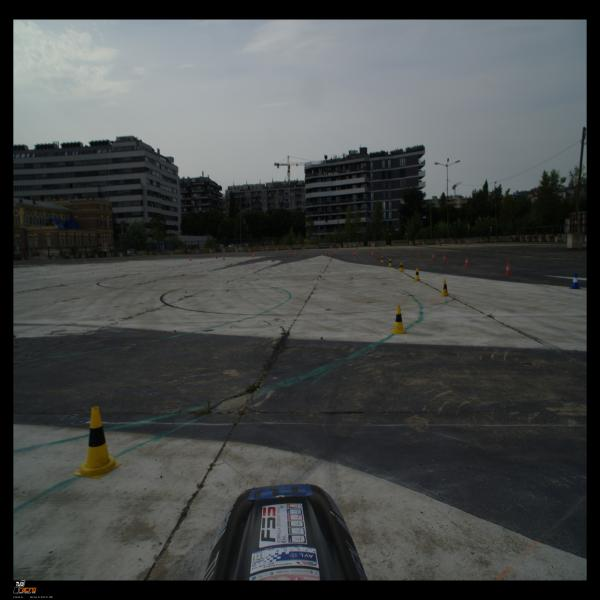blue_cone: (568, 272, 582, 289)
orange_cone: (504, 262, 512, 276), (464, 257, 470, 267), (442, 254, 446, 263), (432, 252, 435, 261), (418, 250, 421, 258), (371, 249, 374, 257), (398, 250, 401, 256), (189, 255, 192, 261), (376, 252, 378, 260), (353, 250, 355, 256), (326, 250, 328, 256), (252, 252, 254, 258), (295, 251, 297, 256), (254, 252, 256, 257), (223, 255, 225, 260), (334, 250, 336, 254), (289, 252, 291, 256), (216, 254, 218, 258)
yellow_cone: (73, 406, 122, 479), (391, 305, 408, 334), (440, 279, 450, 297), (413, 268, 420, 280), (399, 262, 404, 272), (388, 258, 393, 267), (380, 255, 384, 263)
